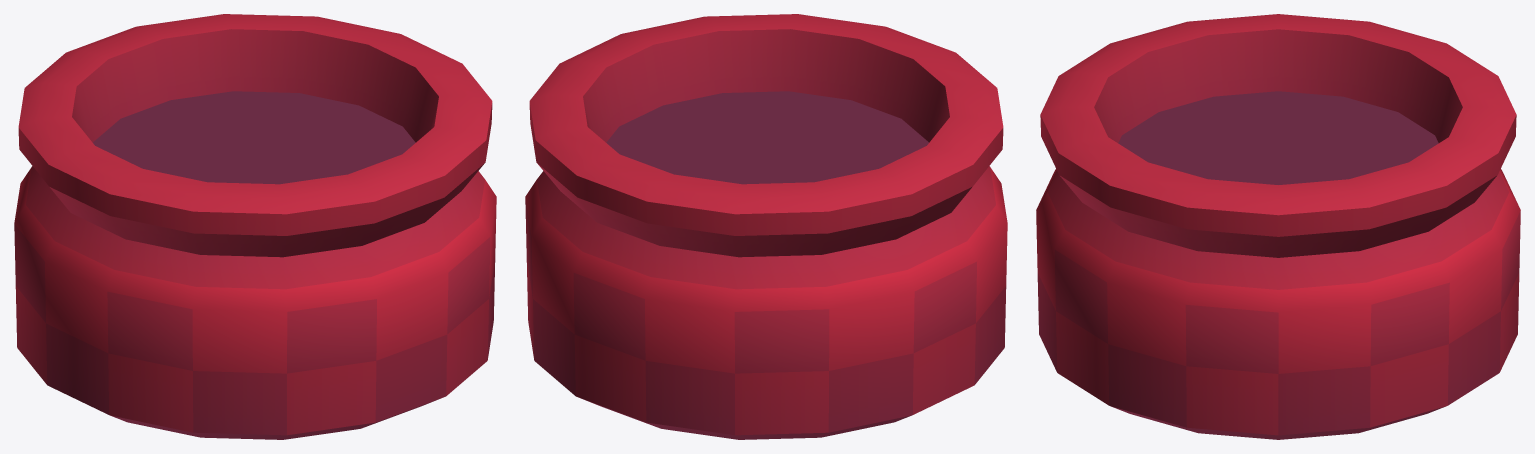
The model's file is christmas_tree_base.glb.
3 views of the same model, side by side, from view 1: azimuth 30°, elevation 25°; view 2: azimuth 150°, elevation 25°; view 3: azimuth 270°, elevation 25° (orthographic).
Visible parts, largest first — view 1: christmas_tree_base; view 2: christmas_tree_base; view 3: christmas_tree_base.
Boxes of the visible parts, x1,y1,x2,y2 form: christmas_tree_base: (14,14,496,439); christmas_tree_base: (525,14,1007,439); christmas_tree_base: (1036,14,1520,439).
Size of the model in its own units: 0.8993 by 0.4998 by 0.8993.
1 material, 1 textured.
